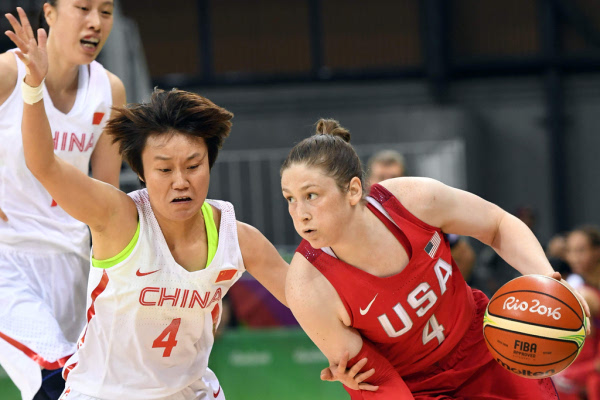ball: (484, 273, 588, 379)
